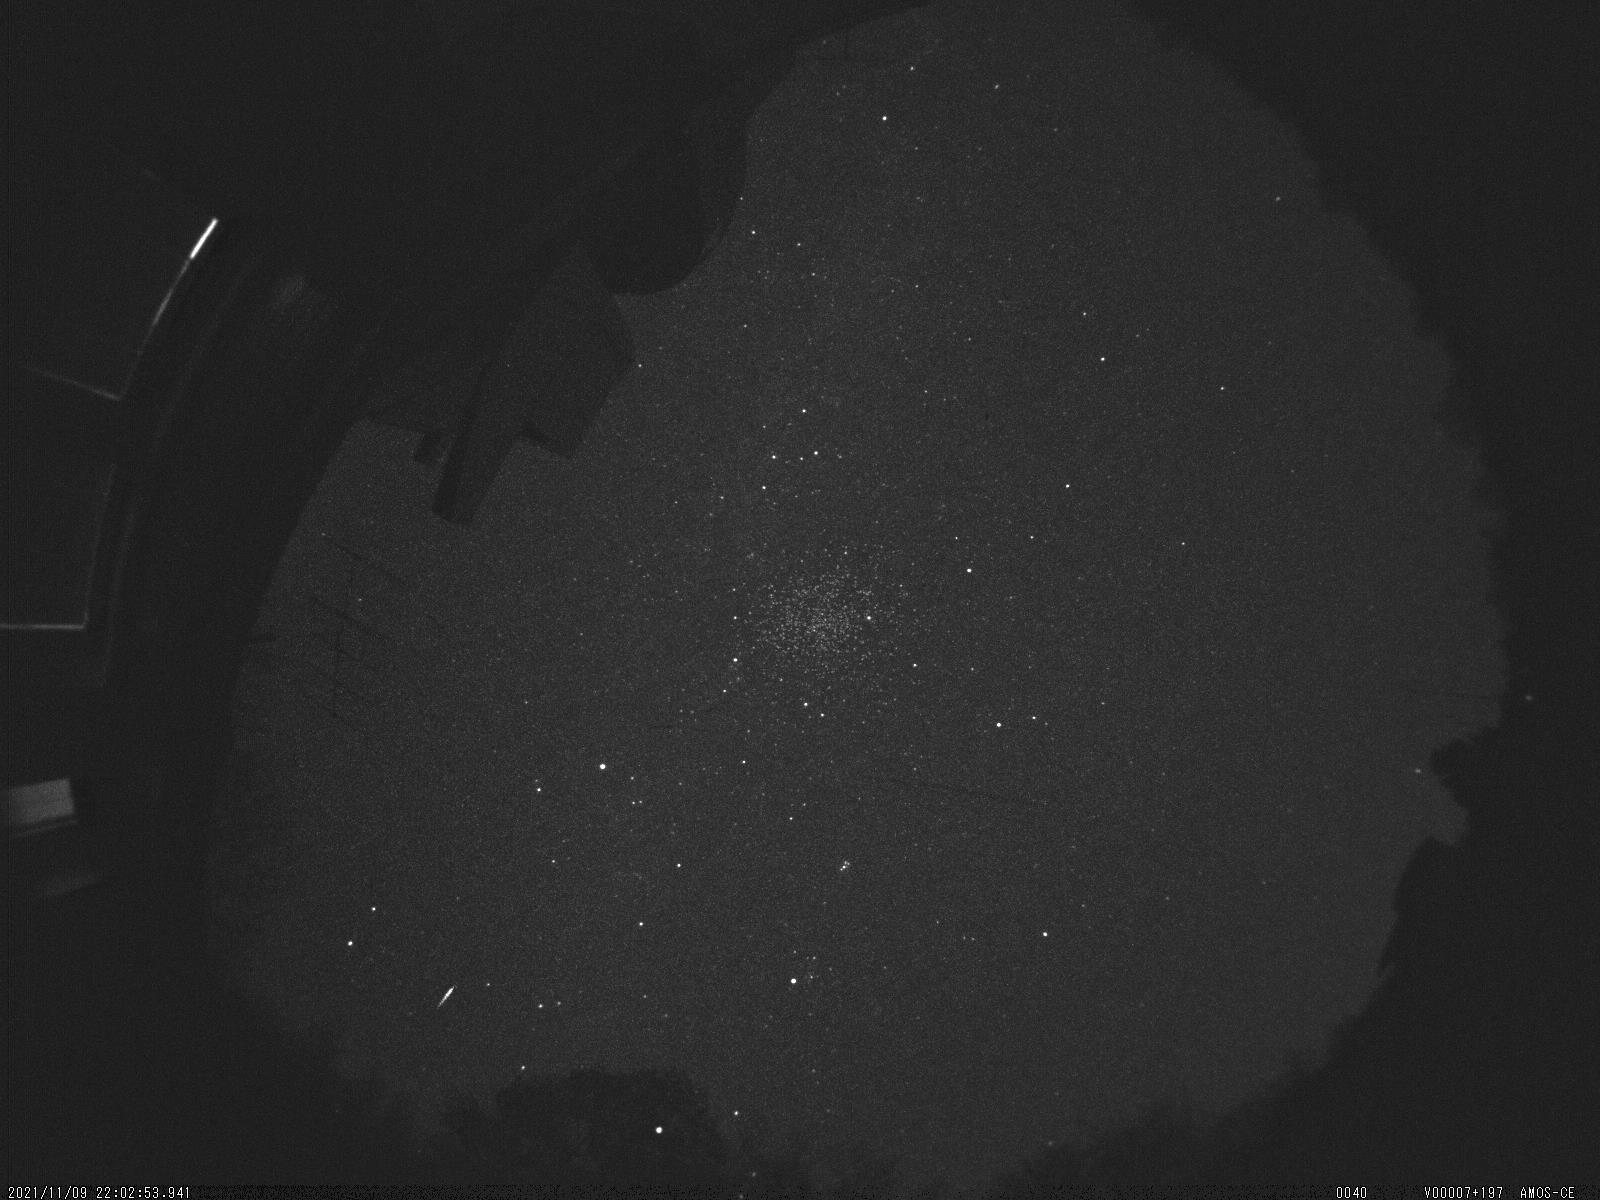Meteor: (430, 972, 464, 1019)
